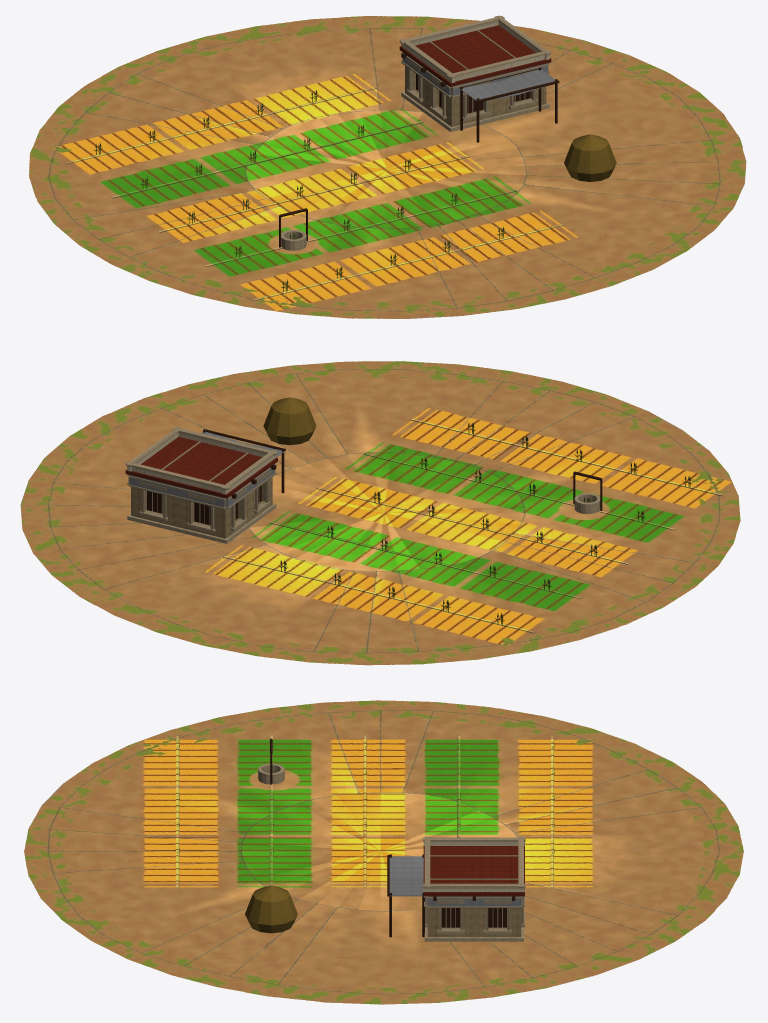
File: farm-bronze.glb
3 renders of one model, top to bottom at view 1: azimuth 30°, elevation 25°; view 2: azimuth 150°, elevation 25°; view 3: azimuth 270°, elevation 25°, orthographic.
Parts seen in each view (by area): view 1: LOD0; view 2: LOD0; view 3: LOD0.
Part boxes in pixels (x1,y1,x2,y2): LOD0: (29,15,746,318); LOD0: (20,361,740,665); LOD0: (24,700,743,1004).
Size of what is drawn, in the model's own units: 4.74 by 0.3939 by 4.74.
3 materials, 3 textured.
